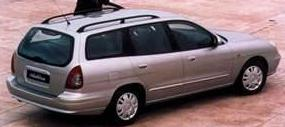back_view: (5, 55, 88, 111)
backlight: (62, 65, 87, 93)
side_glass: (85, 24, 222, 55)
